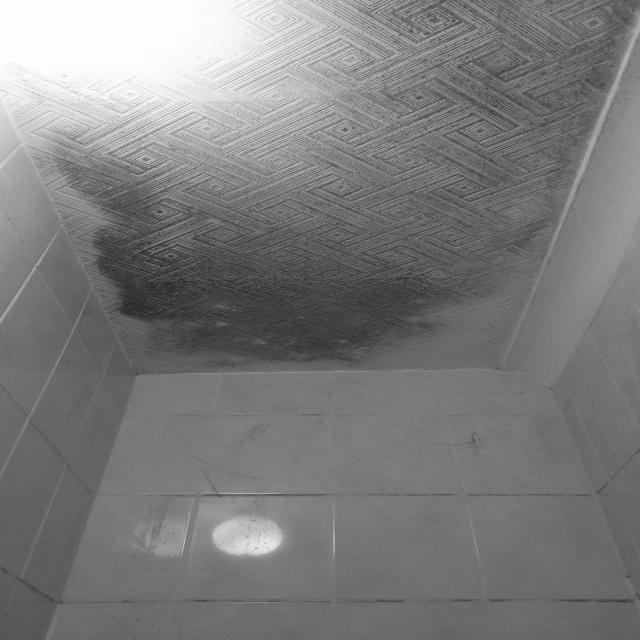stain marks: (7, 0, 638, 118), (83, 190, 549, 306), (51, 116, 588, 192), (113, 309, 446, 369)
